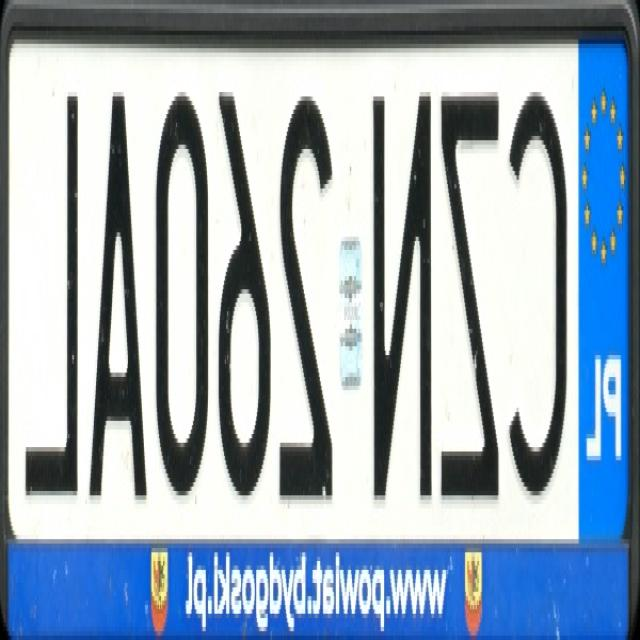pl_license_plate: (9, 31, 630, 539)
